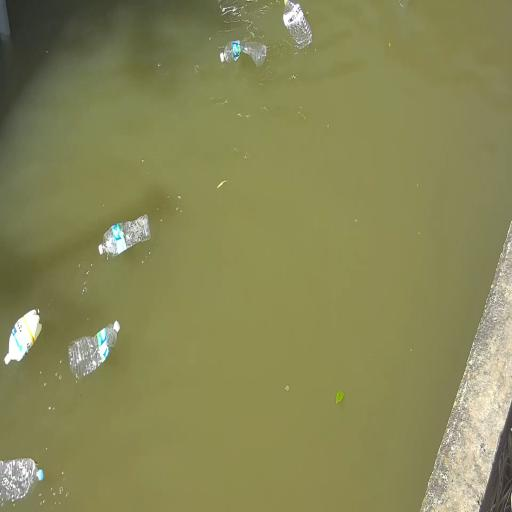plastic: (69, 321, 119, 378), (99, 214, 150, 256), (4, 310, 41, 364), (0, 459, 43, 503), (220, 41, 267, 66)
